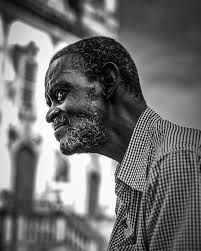no-mask: (30, 45, 127, 158)
